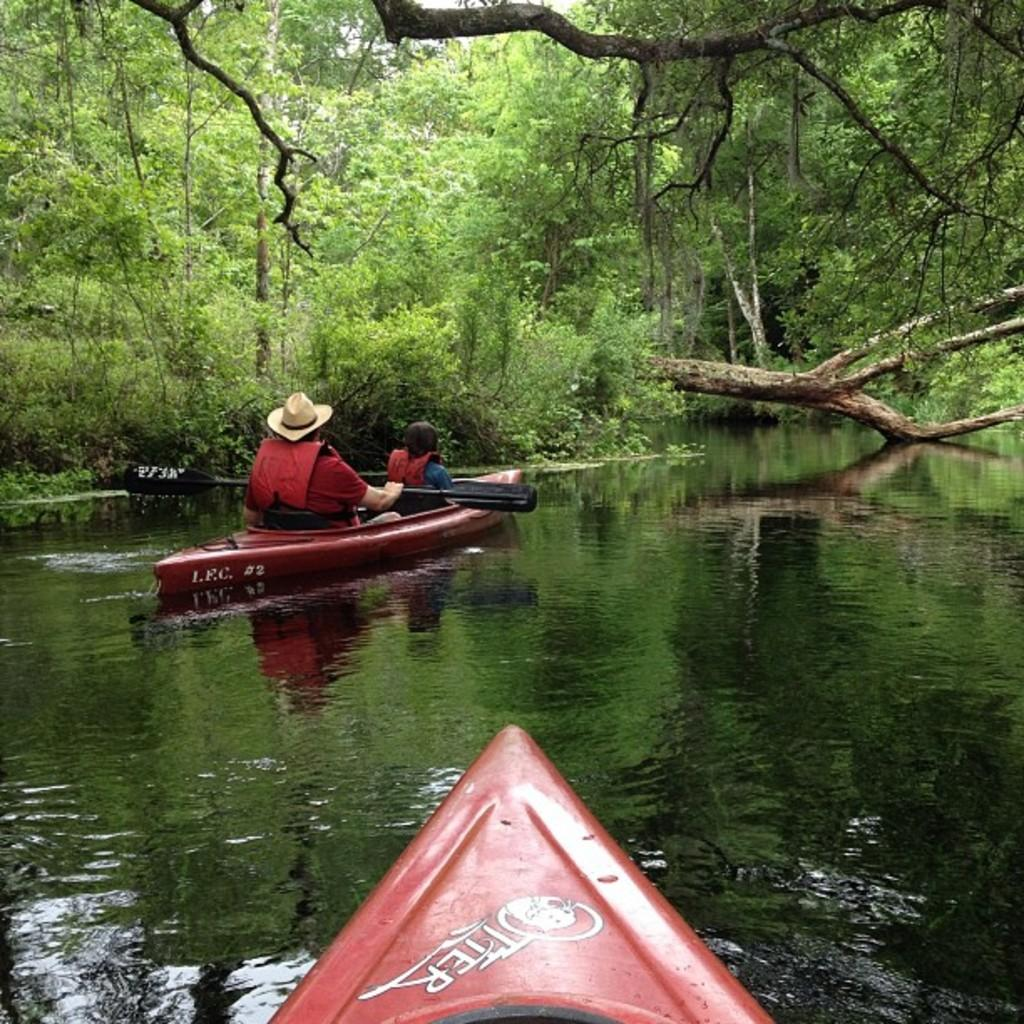Hat: (266, 387, 332, 441)
